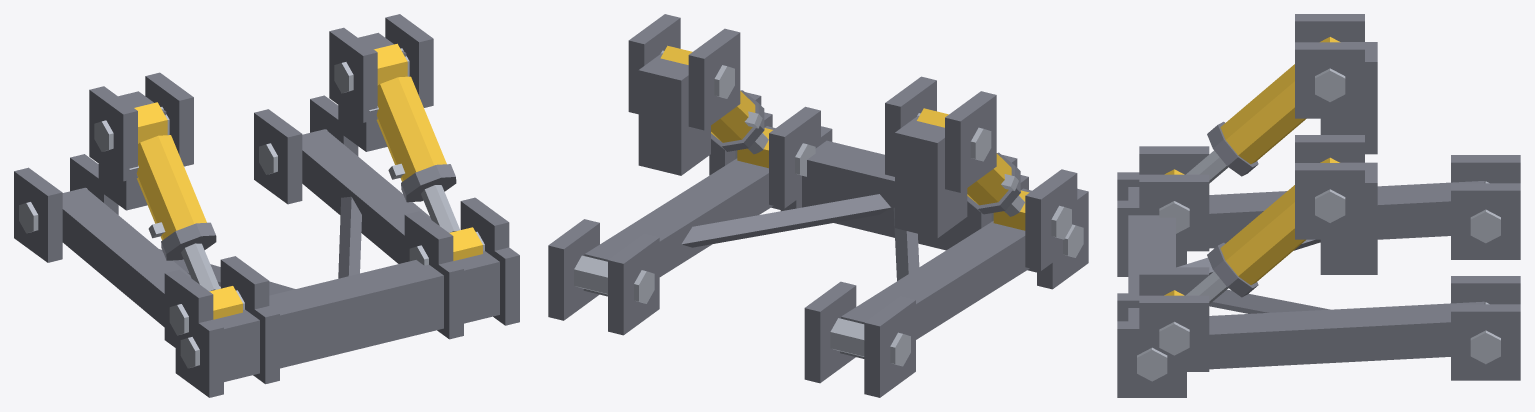
File: TractorDefaultHydraulics.fbx
3 renders of one model, left to right at view 1: azimuth 30°, elevation 25°; view 2: azimuth 150°, elevation 25°; view 3: azimuth 270°, elevation 25°, orthographic. The views are drawn at different scales.
Visible parts, largest first — view 1: Original tractor lift hydraulics; view 2: Original tractor lift hydraulics; view 3: Original tractor lift hydraulics.
Part boxes in pixels (x1,y1,x2,y2): Original tractor lift hydraulics: [14, 14, 519, 397]; Original tractor lift hydraulics: [548, 14, 1088, 397]; Original tractor lift hydraulics: [1117, 14, 1520, 397].
Size of the model in its own units: 1.2 by 0.79 by 1.27.
